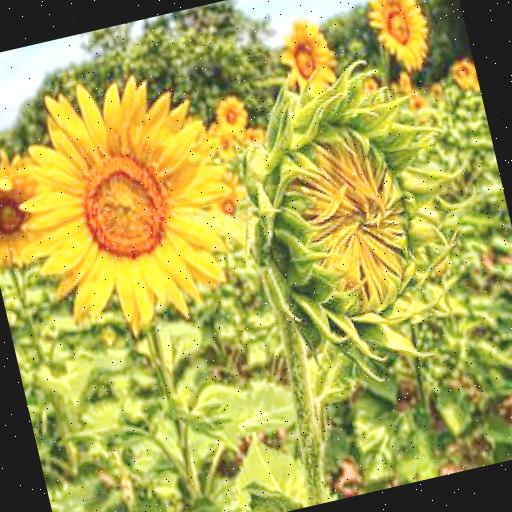sunflower: (2, 51, 260, 343), (359, 0, 435, 69), (276, 16, 340, 94)
